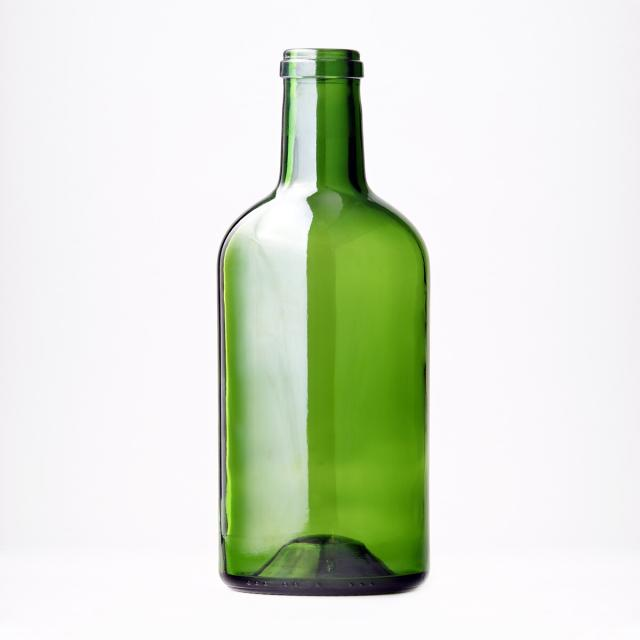glass bottle: (160, 30, 494, 589)
